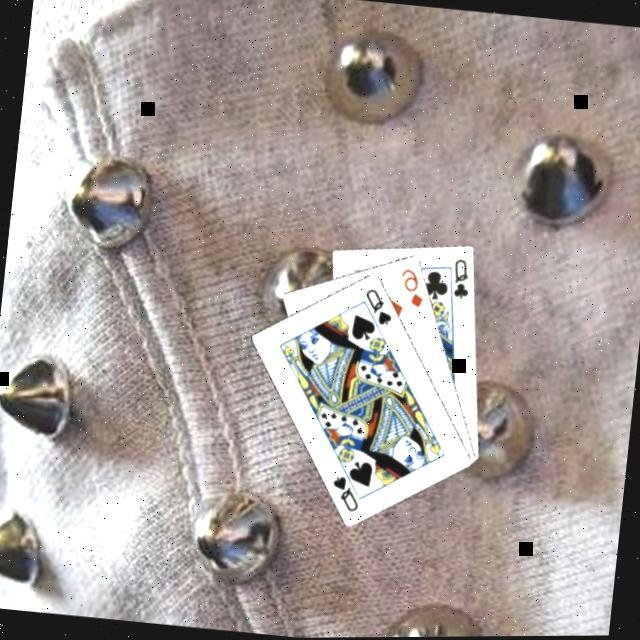6D: (393, 263, 427, 310)
QC: (446, 254, 474, 301)
QS: (357, 283, 395, 328), (324, 470, 362, 514)
